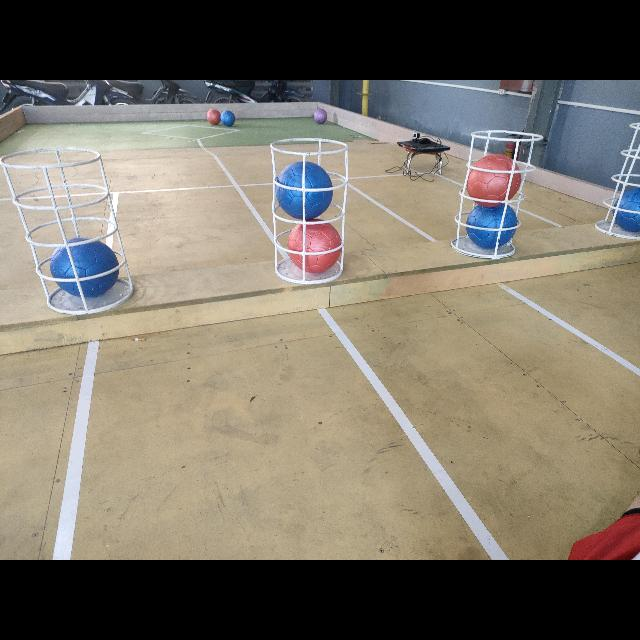B: (49, 236, 119, 298), (276, 161, 334, 221), (466, 203, 516, 249), (612, 188, 640, 232), (221, 110, 235, 128)
R: (467, 154, 521, 208), (288, 220, 342, 272), (208, 110, 220, 124)
